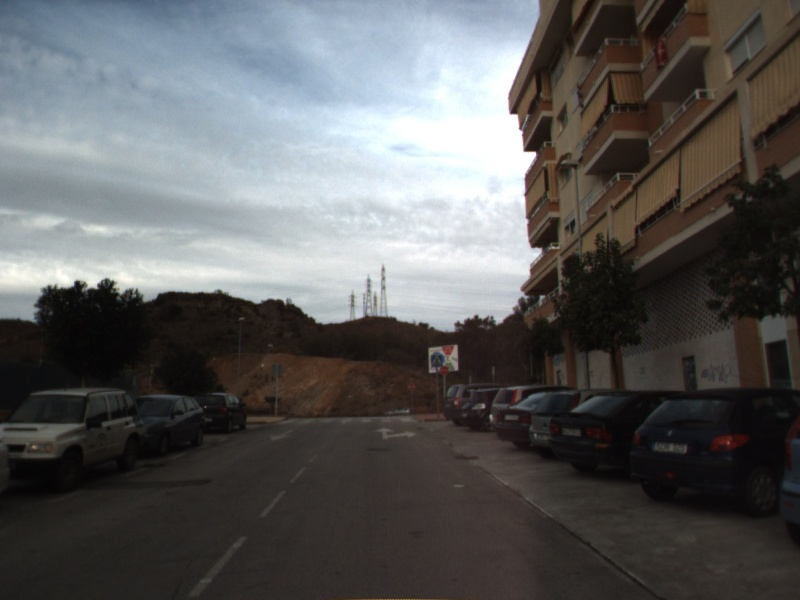STRAIGHT_RIGHT: (371, 425, 419, 441)
